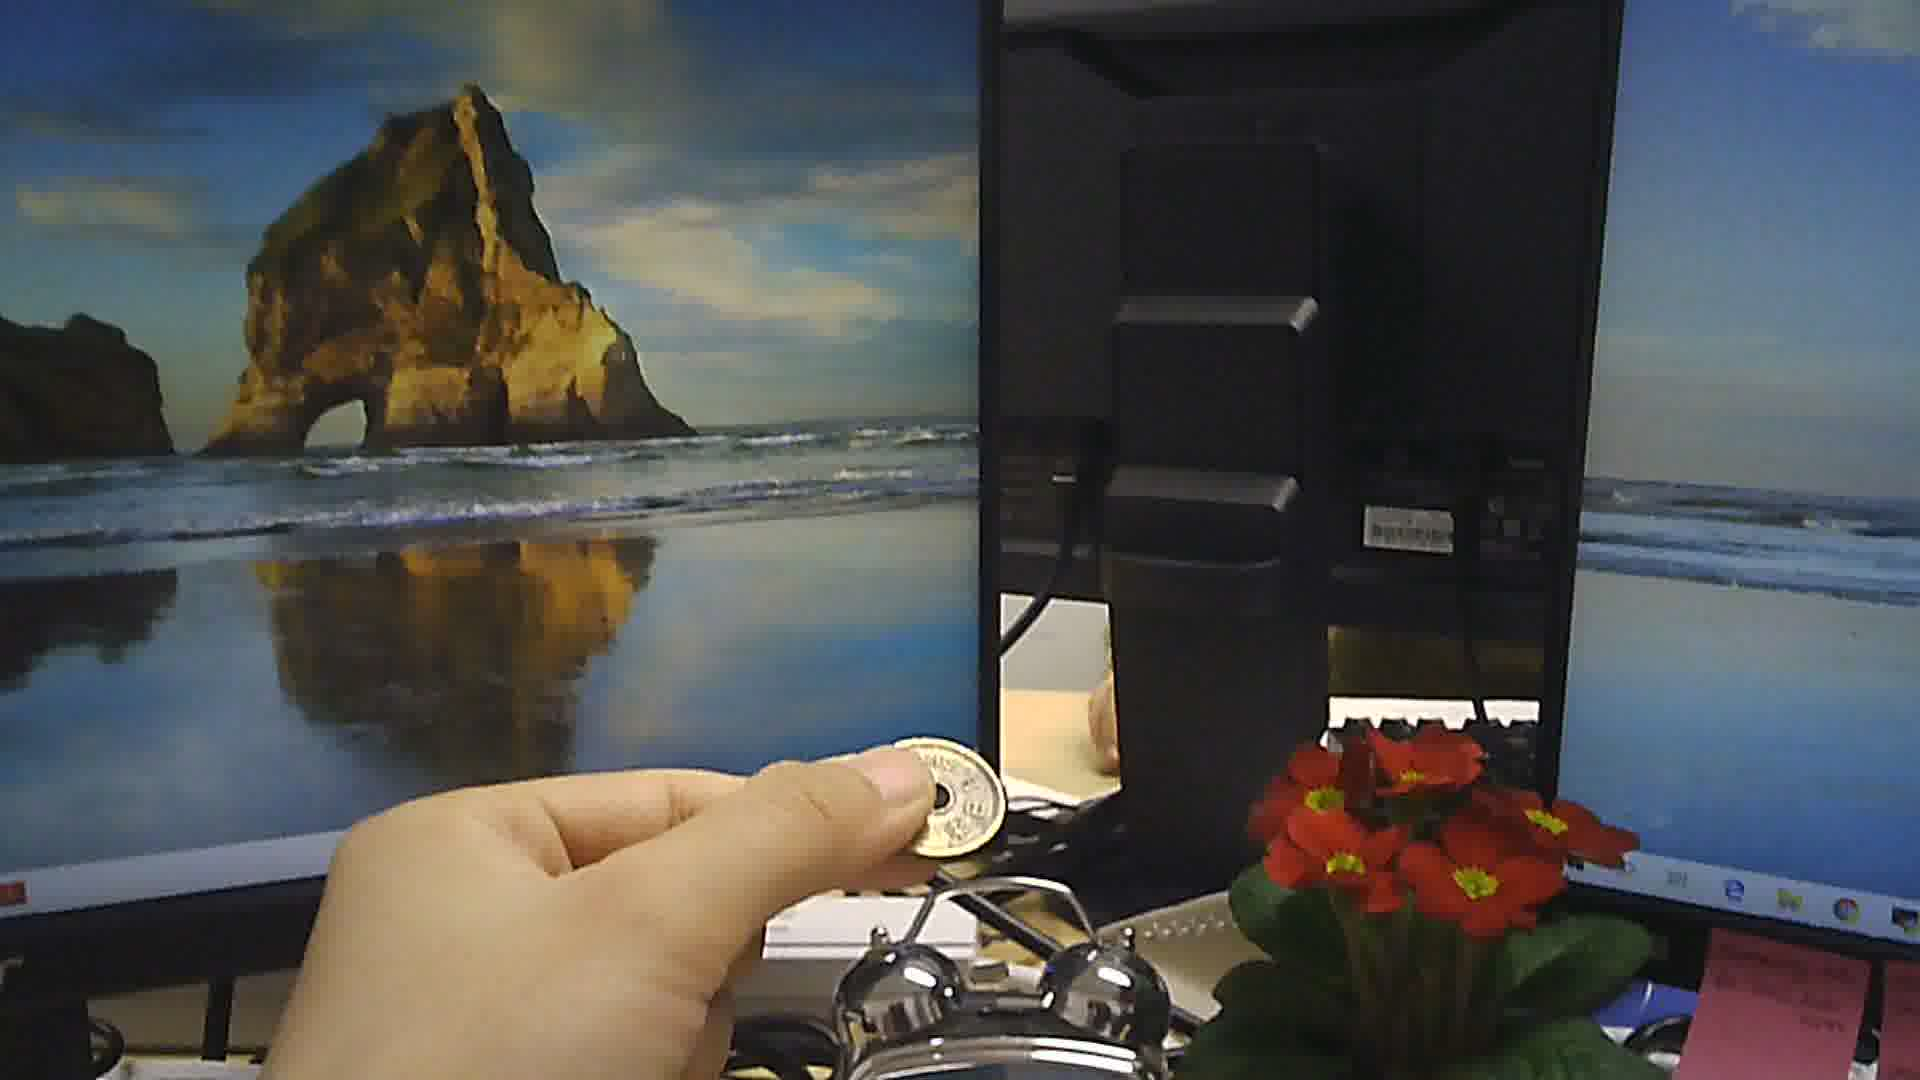5 Yen: (880, 729, 1013, 870)
